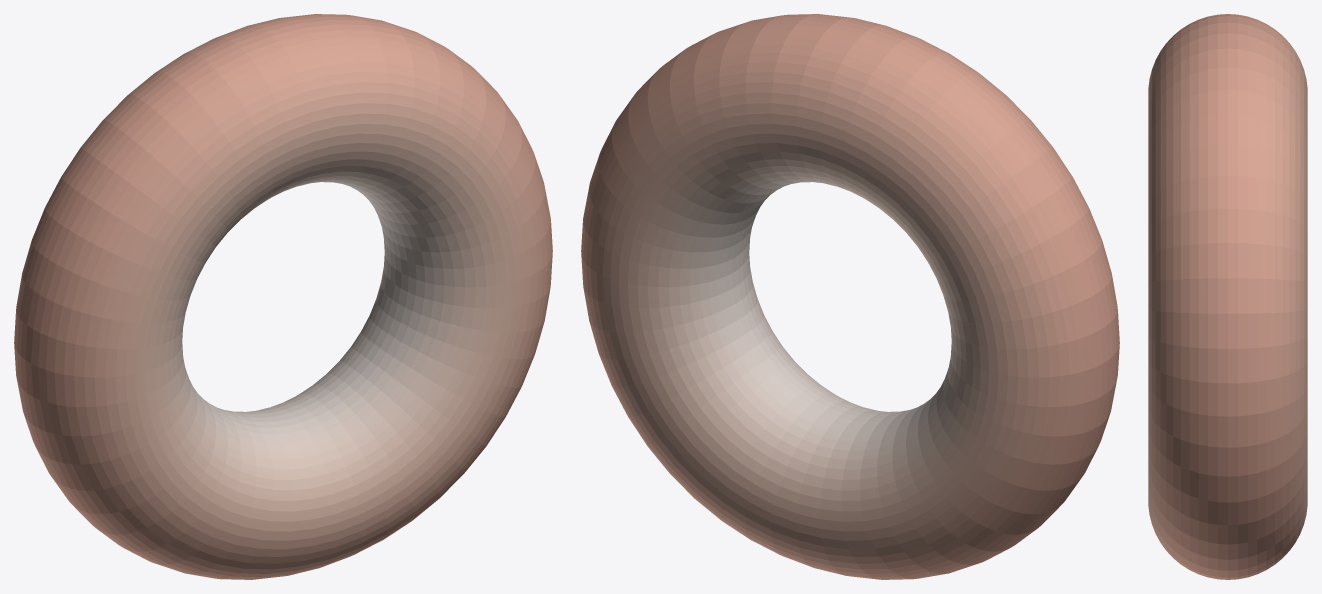
3 renders of one model, left to right at view 1: azimuth 30°, elevation 25°; view 2: azimuth 150°, elevation 25°; view 3: azimuth 270°, elevation 25°, orthographic. The views are drawn at different scales.
Visible parts, largest first — view 1: world; view 2: world; view 3: world.
Part boxes in pixels (x1,y1,x2,y2): world: (14,14,552,579); world: (581,14,1119,579); world: (1148,14,1307,579).
Bounding box in the file's own units: 26.93 × 26.88 × 7.59.
